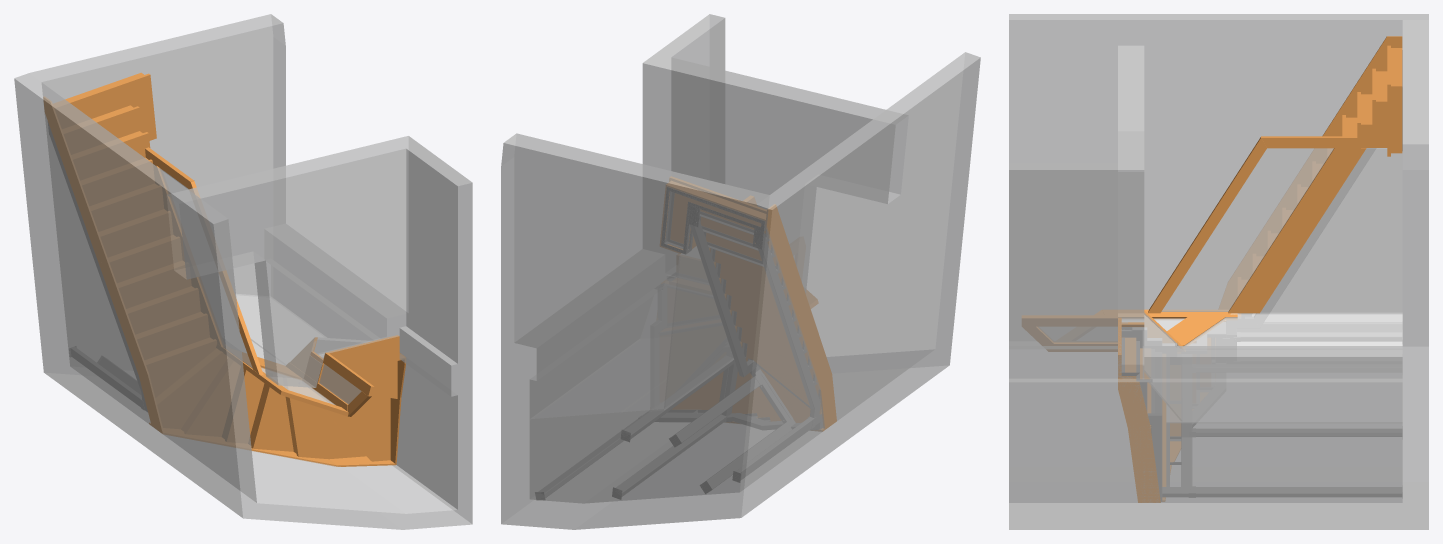
The model's file is лестница на металлокаркасевсборе.obj.
The picture shows the model from 3 angles, left to right: view 1: azimuth 30°, elevation 25°; view 2: azimuth 150°, elevation 25°; view 3: azimuth 270°, elevation 25°; orthographic projection. The views are drawn at different scales.
Size of the model in its own units: 3.47 by 4.68 by 4.63.
